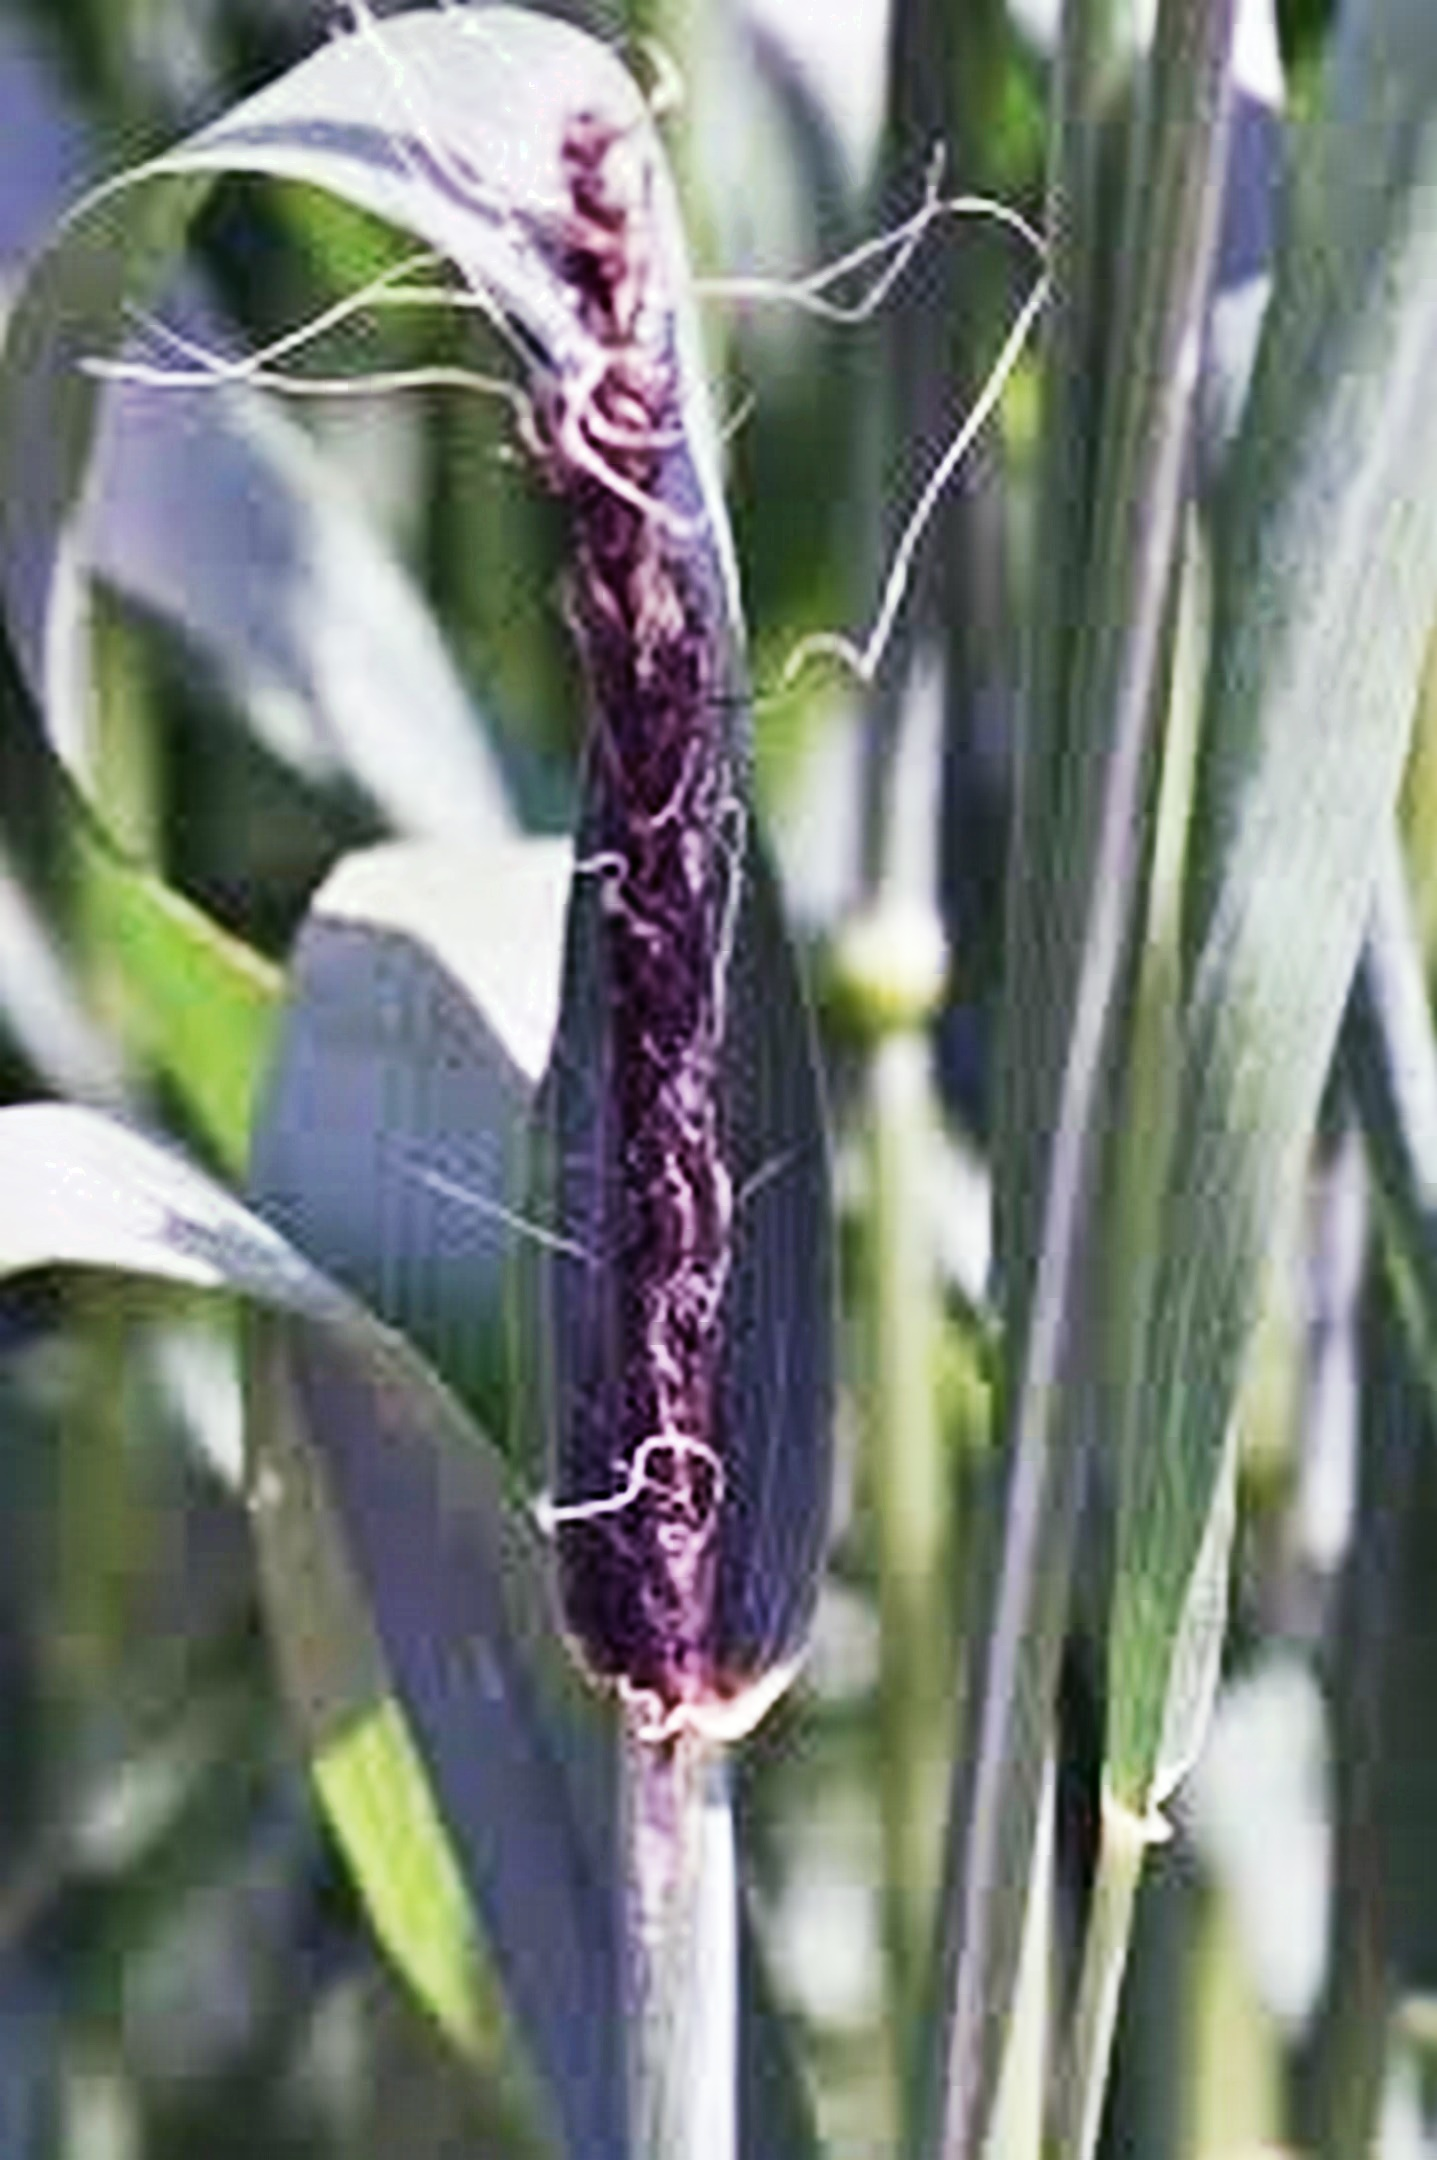Wheat Loose Smut: (496, 184, 789, 1636)
